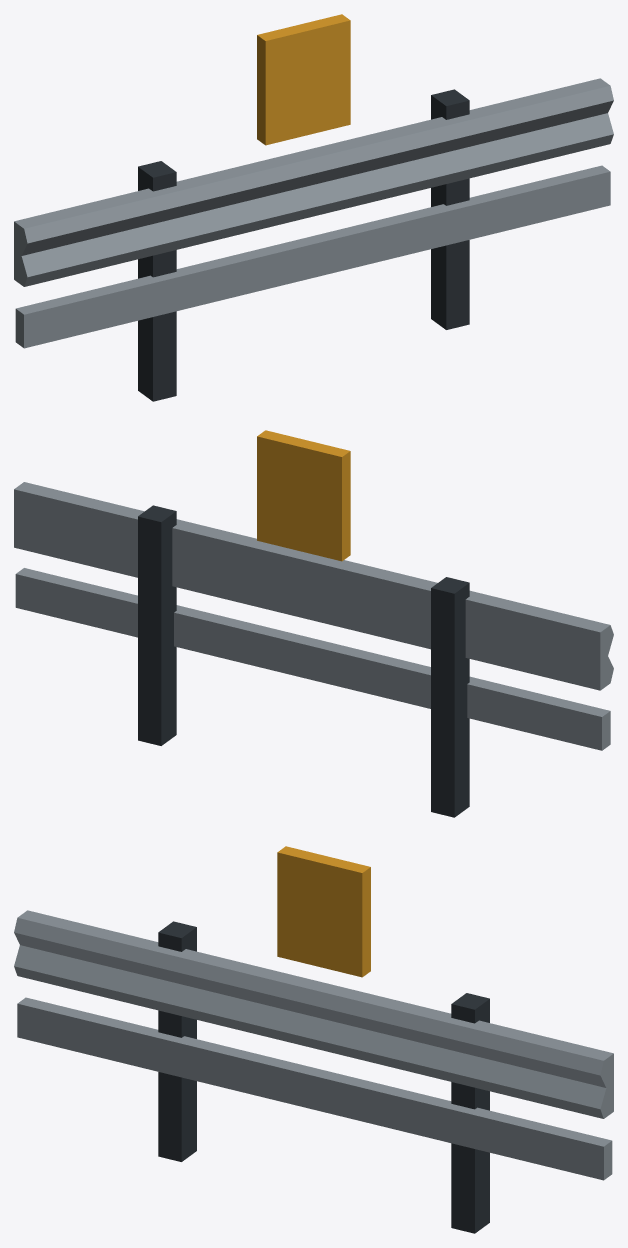
File: SM_Guardrail_Segment_4m.glb
3 renders of one model, top to bottom at view 1: azimuth 30°, elevation 25°; view 2: azimuth 150°, elevation 25°; view 3: azimuth 330°, elevation 25°, orthographic.
Visible parts, largest first — view 1: SM_Guardrail_Segment_4m; view 2: SM_Guardrail_Segment_4m; view 3: SM_Guardrail_Segment_4m.
Boxes of the visible parts, box(x1,y1,x2,y2) form: SM_Guardrail_Segment_4m: box(14, 14, 613, 401); SM_Guardrail_Segment_4m: box(14, 430, 613, 817); SM_Guardrail_Segment_4m: box(14, 846, 613, 1233).
Bounding box in the file's own units: 4 × 2.15 × 0.29.
